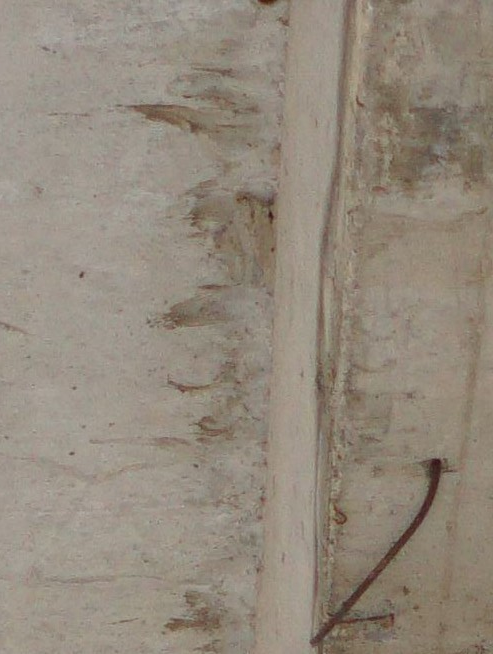Exposed reinforcement: (309, 458, 442, 646)
